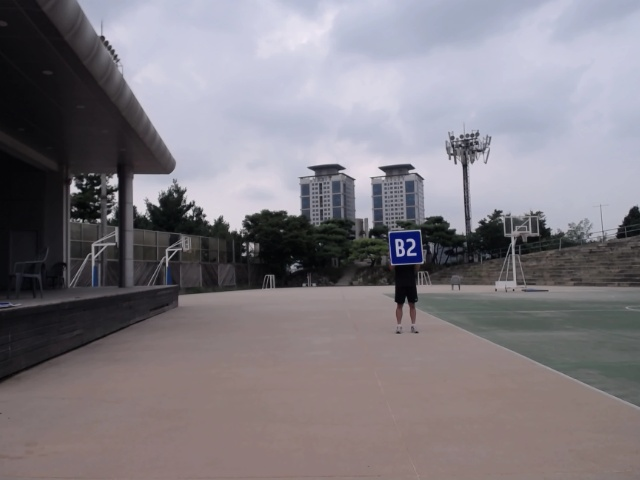delivery_b2: (387, 229, 425, 267)
